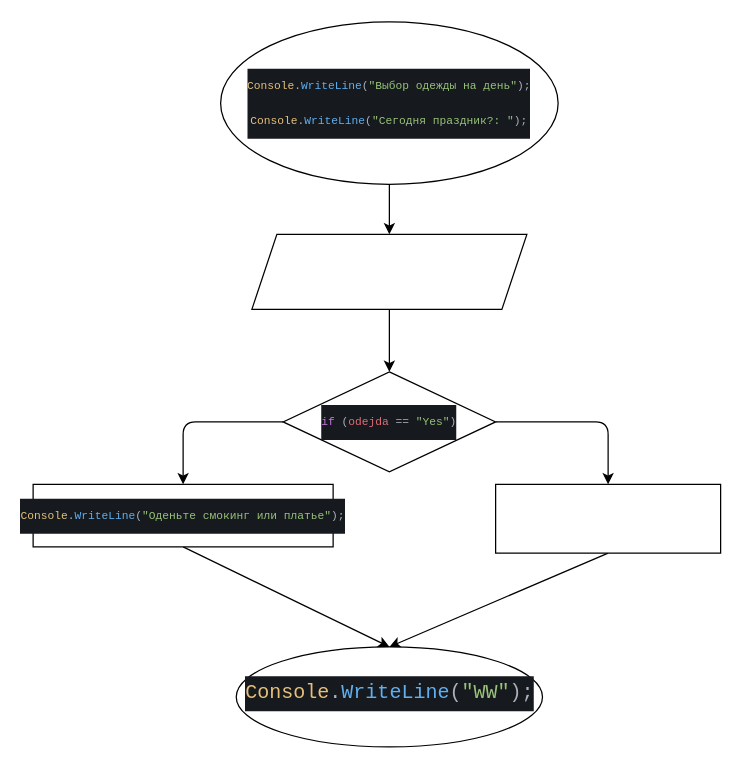
The diagram is 743 pixels wide and 769 high, and some of its shapes have lost their labels. The centre of each missing label's shape, as x and y in pixels:
Console . WriteLine ( "Как обычно" );: (x=607, y=518)
string odejda = Console . ReadLine ();: (x=389, y=271)
